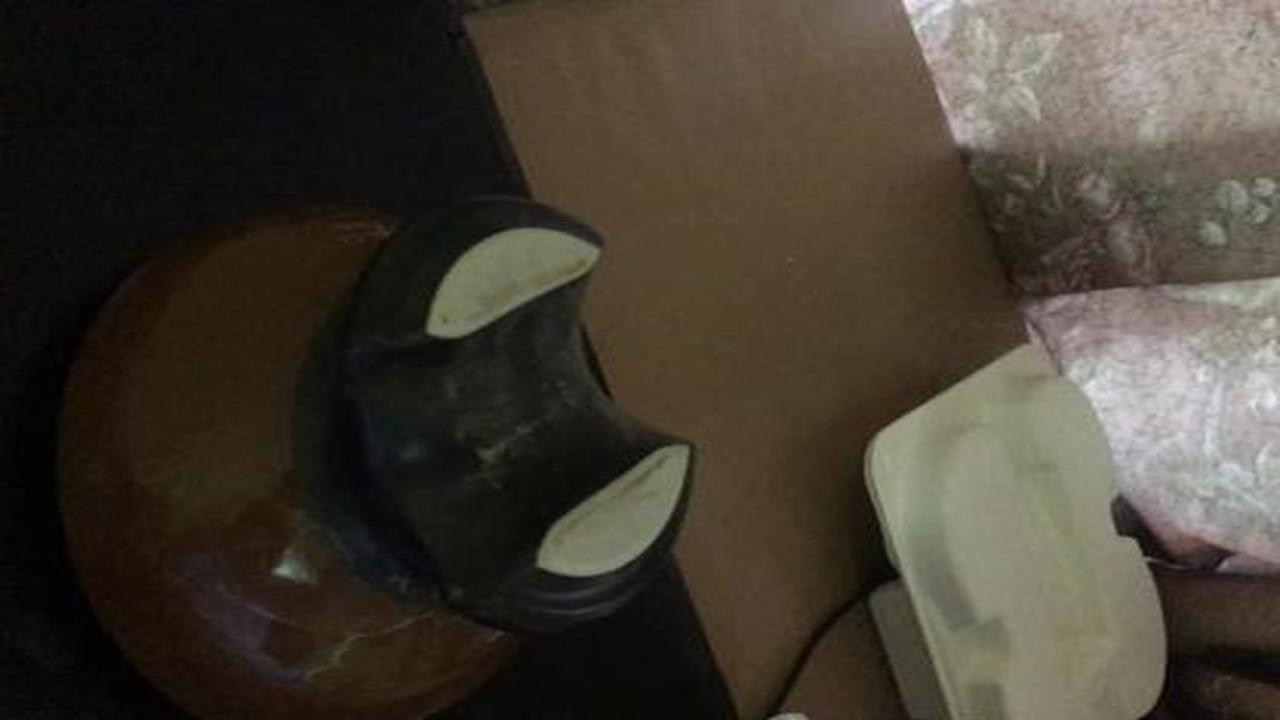insulator_pin: (34, 194, 714, 707)
